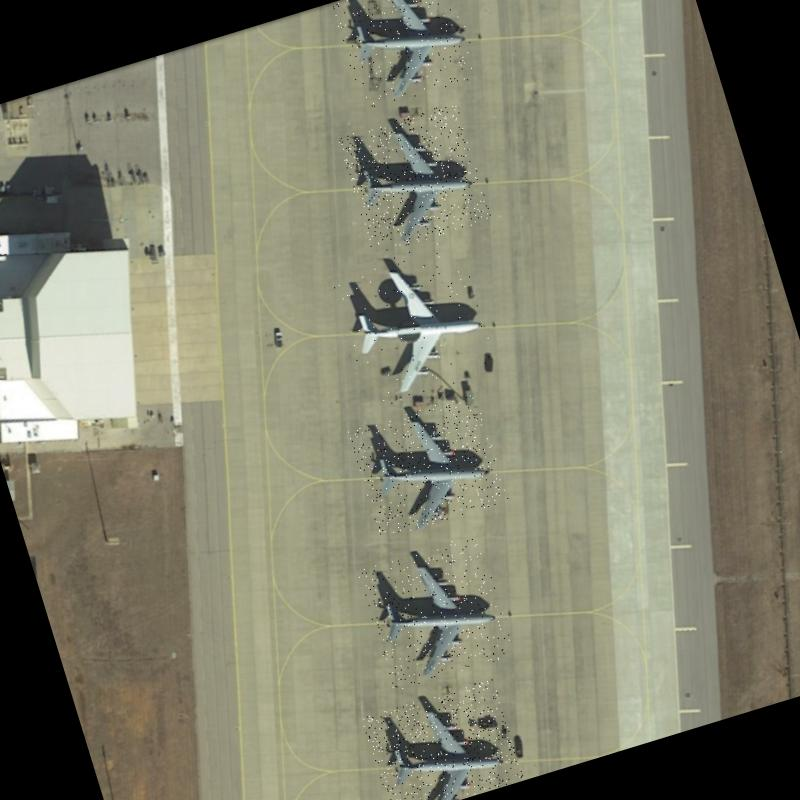A14: (357, 532, 516, 692), (338, 101, 493, 255), (348, 392, 509, 540), (361, 677, 524, 800), (330, 0, 481, 113)
A7: (329, 236, 500, 411)
